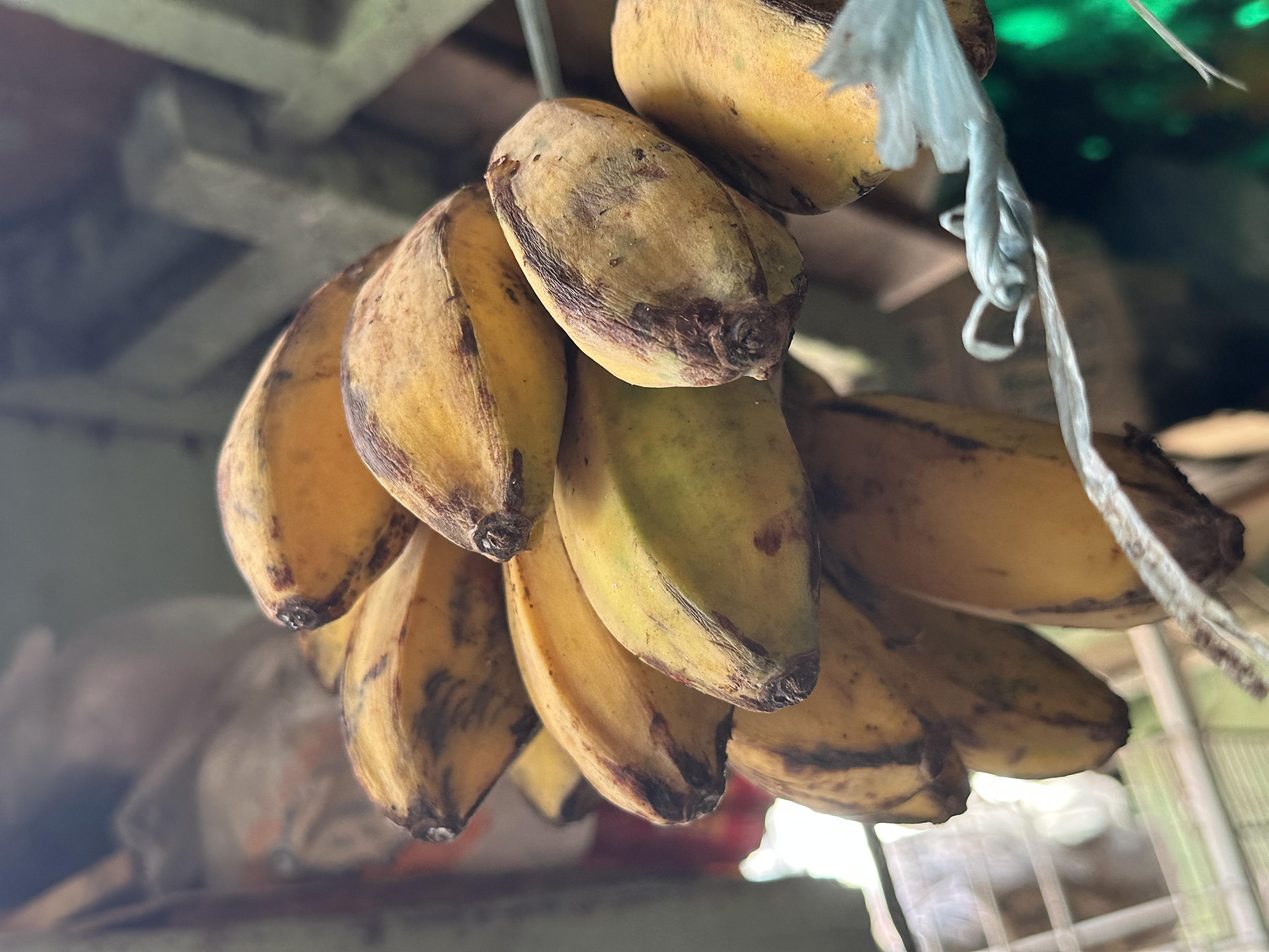ripe: (218, 0, 1165, 839)
